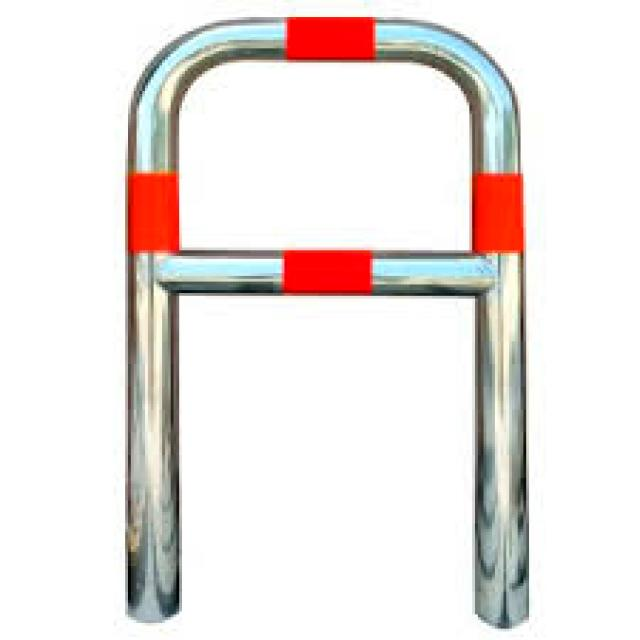bollard: (112, 10, 540, 636)
